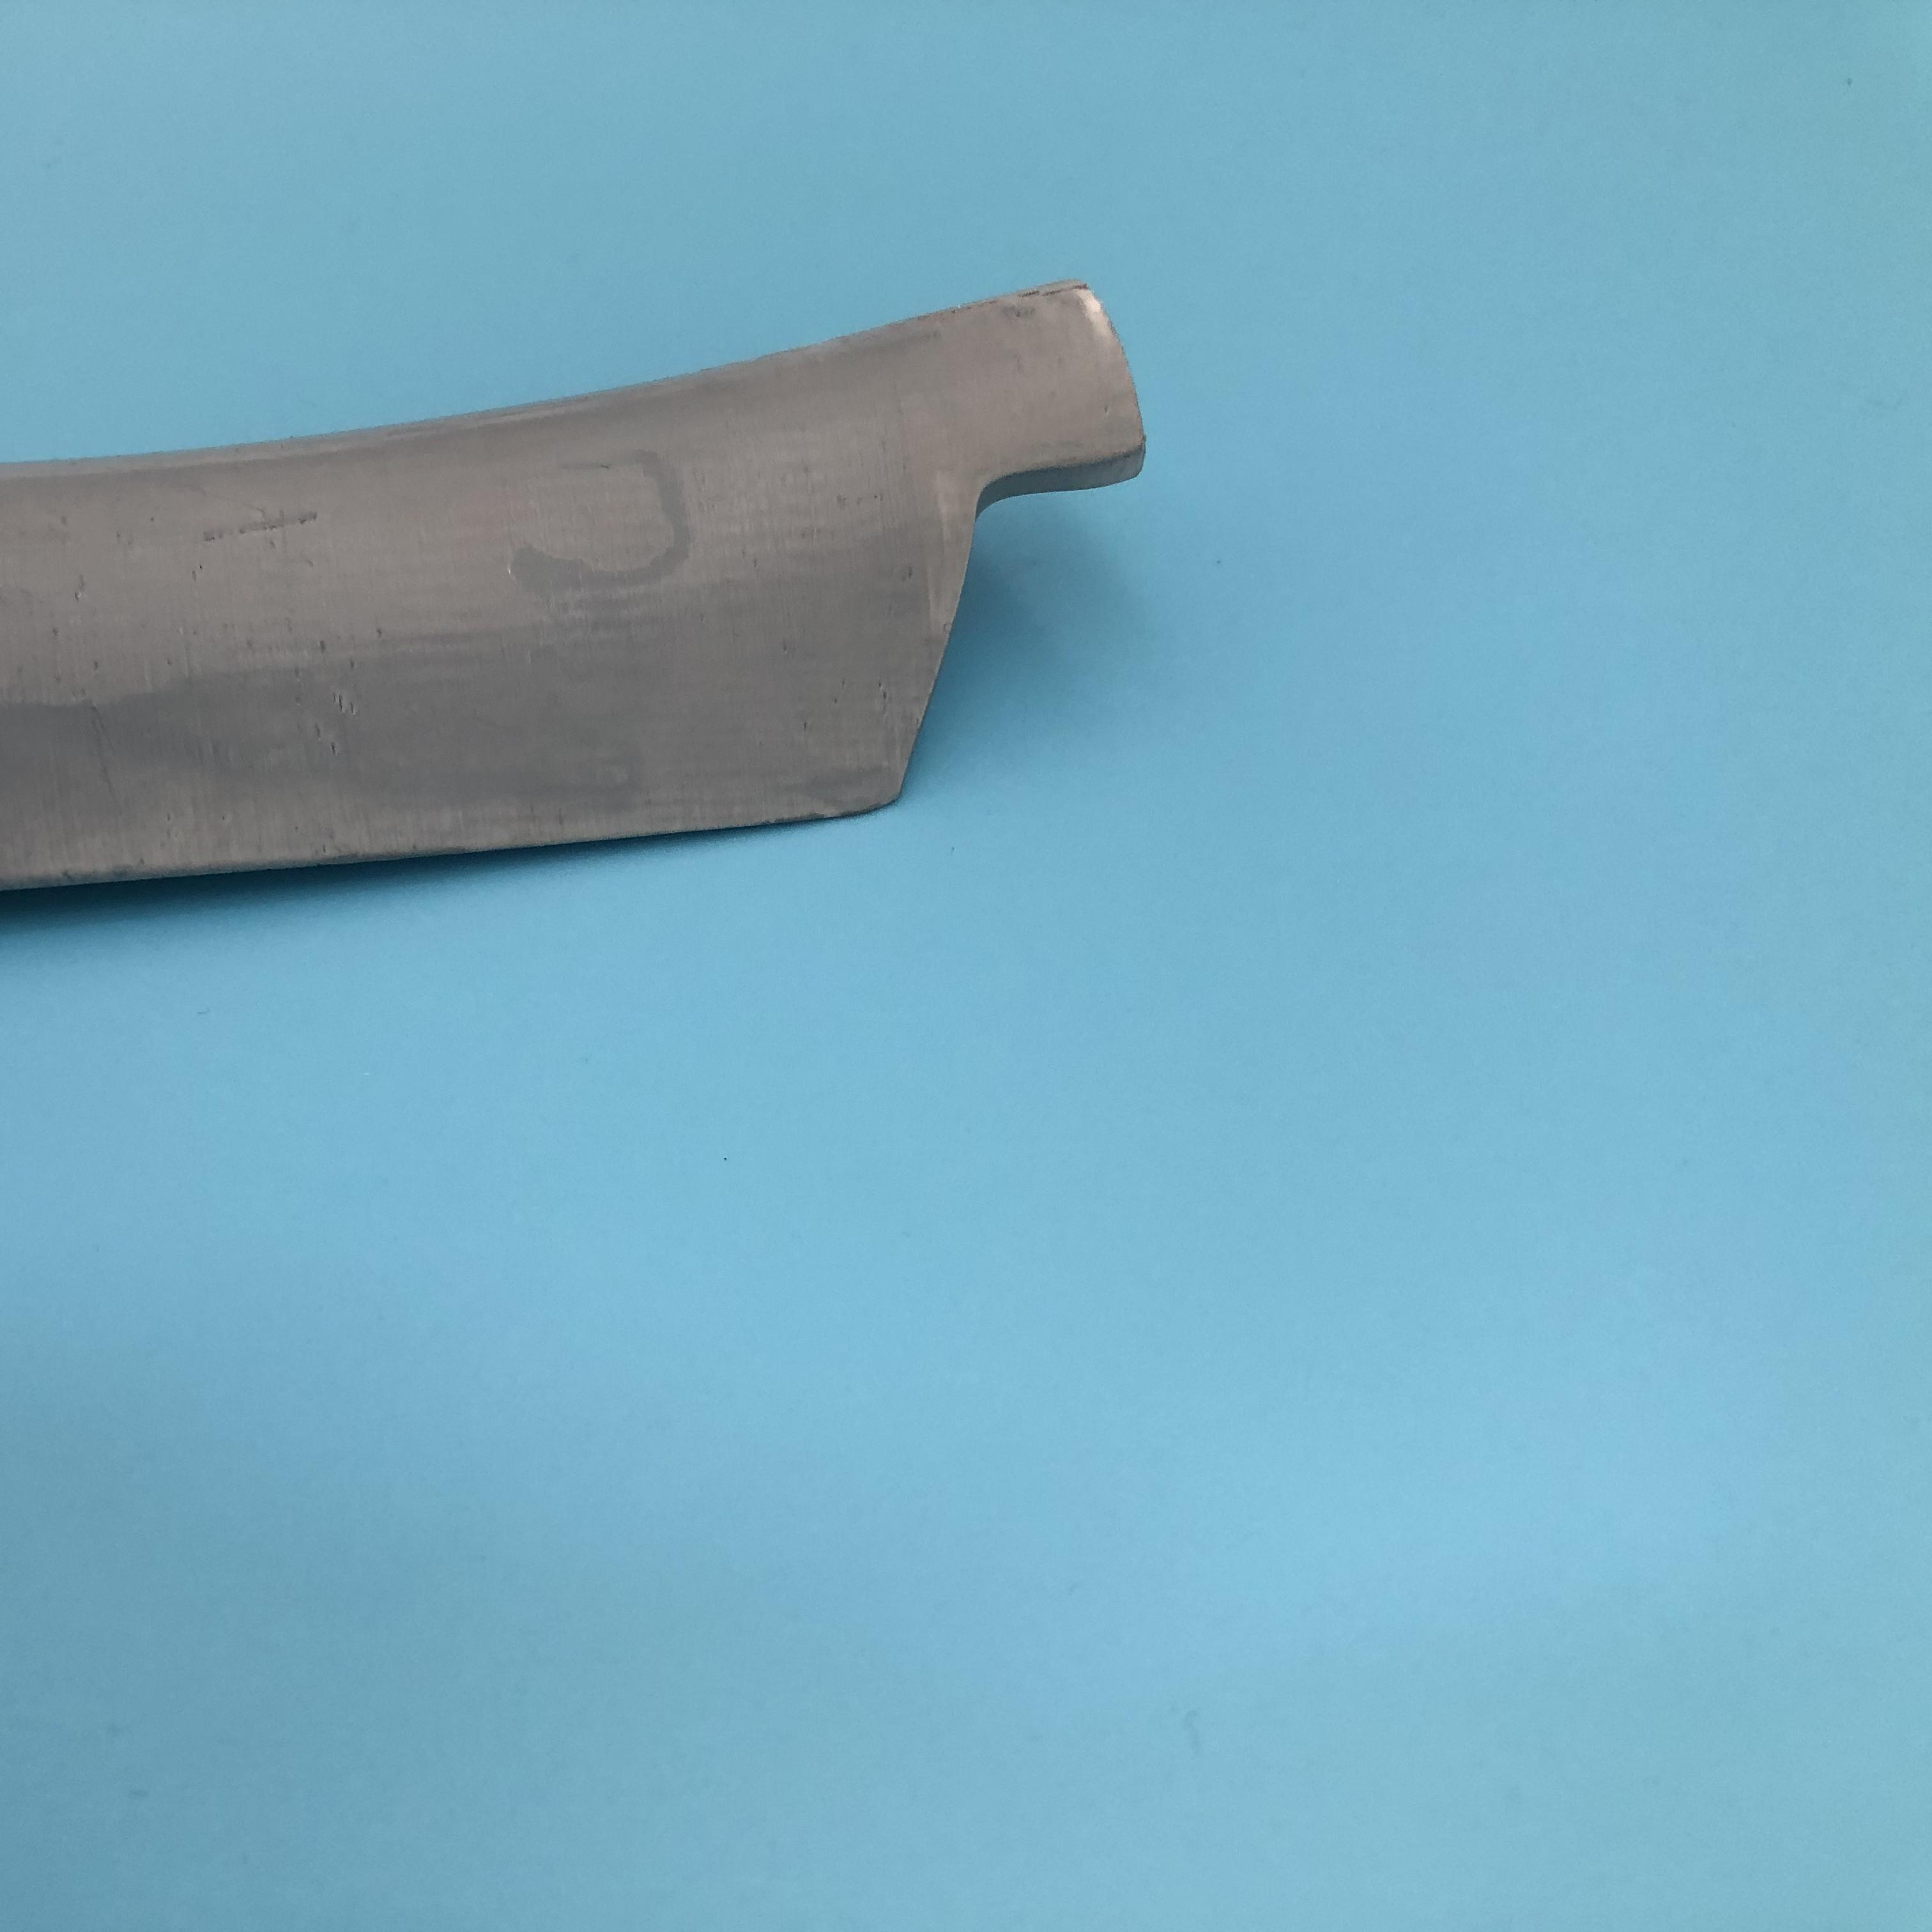fracture: (915, 453, 1120, 810)
